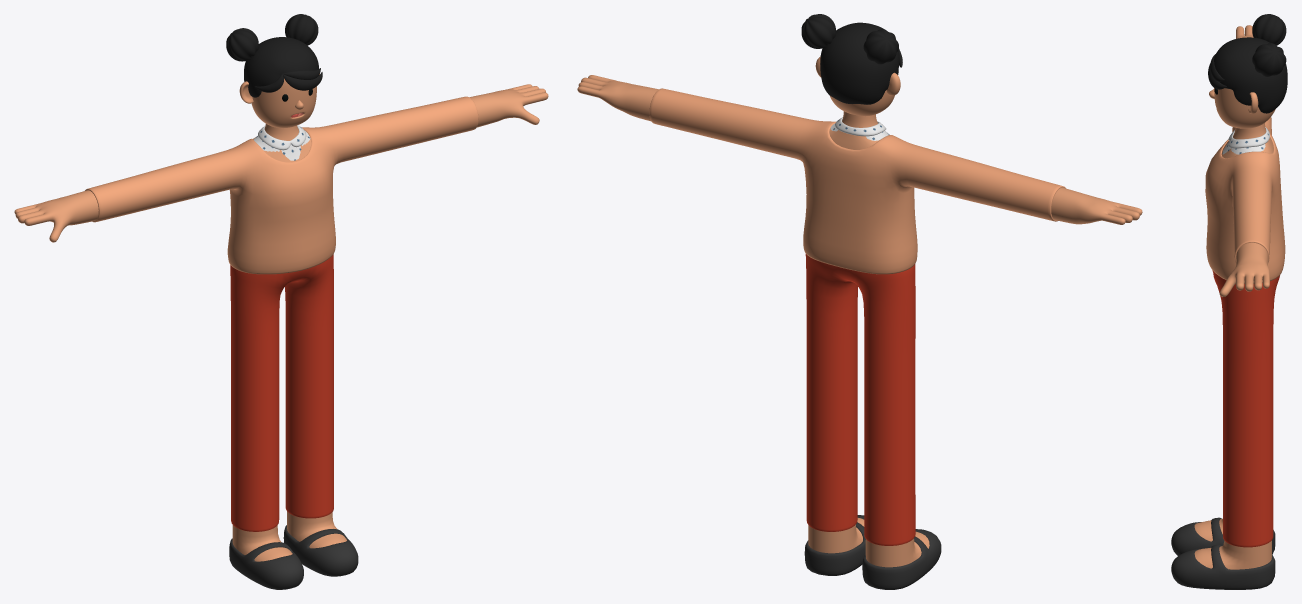
File: GIRL 7.fbx
3 renders of one model, left to right at view 1: azimuth 30°, elevation 25°; view 2: azimuth 150°, elevation 25°; view 3: azimuth 270°, elevation 25°, orthographic. The views are drawn at different scales.
Visible parts, largest first — view 1: GIRL 7_PANTS, GIRL 7_SHIRT, GIRL_BODY (NO SKIRT).005, GIRL_7_HAIR.001, GIRL_7_SHOES.R, GIRL_7_SHOES.L, GIRL 7_SHIRT.001, GIRL_7_HAIR; view 2: GIRL 7_PANTS, GIRL 7_SHIRT, GIRL_BODY (NO SKIRT).005, GIRL_7_HAIR.001, GIRL_7_SHOES.R, GIRL_7_SHOES.L; view 3: GIRL 7_PANTS, GIRL 7_SHIRT, GIRL_BODY (NO SKIRT).005, GIRL_7_HAIR.001, GIRL_7_SHOES.L, GIRL_7_SHOES.R, GIRL 7_SHIRT.001, GIRL_7_HAIR.
Part boxes in pixels (<box>): GIRL 7_PANTS: <box>230,254,333,531</box>; GIRL 7_SHIRT: <box>85,96,478,274</box>; GIRL_BODY (NO SKIRT).005: <box>14,74,548,561</box>; GIRL_7_HAIR.001: <box>226,14,318,97</box>; GIRL_7_SHOES.R: <box>229,538,303,589</box>; GIRL_7_SHOES.L: <box>283,525,358,576</box>; GIRL 7_SHIRT.001: <box>253,125,310,160</box>; GIRL_7_HAIR: <box>254,68,322,92</box>; GIRL 7_PANTS: <box>805,254,915,545</box>; GIRL 7_SHIRT: <box>649,88,1065,274</box>; GIRL_BODY (NO SKIRT).005: <box>577,56,1142,567</box>; GIRL_7_HAIR.001: <box>801,14,899,104</box>; GIRL_7_SHOES.R: <box>862,529,941,589</box>; GIRL_7_SHOES.L: <box>804,515,865,575</box>; GIRL 7_PANTS: <box>1212,270,1279,547</box>; GIRL 7_SHIRT: <box>1205,117,1285,283</box>; GIRL_BODY (NO SKIRT).005: <box>1194,25,1275,569</box>; GIRL_7_HAIR.001: <box>1214,14,1287,113</box>; GIRL_7_SHOES.L: <box>1171,544,1275,589</box>; GIRL_7_SHOES.R: <box>1171,517,1275,555</box>; GIRL 7_SHIRT.001: <box>1222,127,1269,154</box>; GIRL_7_HAIR: <box>1208,54,1226,89</box>.
Bounding box in the file's own units: 205 × 196 × 38.47.
Materials: 10 (7 with a texture image).
